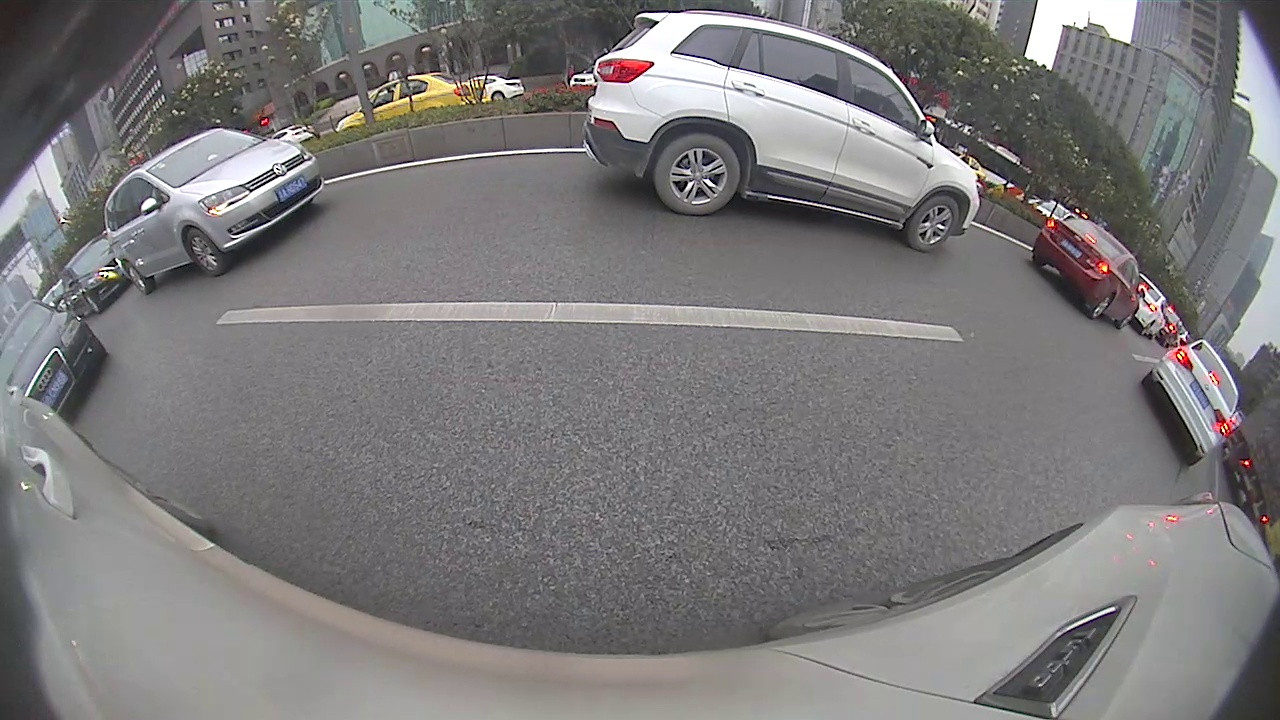car: (580, 8, 982, 255), (102, 127, 328, 295), (1029, 217, 1148, 332), (0, 297, 108, 417), (1141, 339, 1240, 468), (59, 234, 130, 316)
front: (908, 196, 962, 253), (186, 227, 225, 275)
rear: (657, 132, 740, 217), (123, 259, 151, 294), (1089, 293, 1115, 320), (491, 90, 505, 106)
